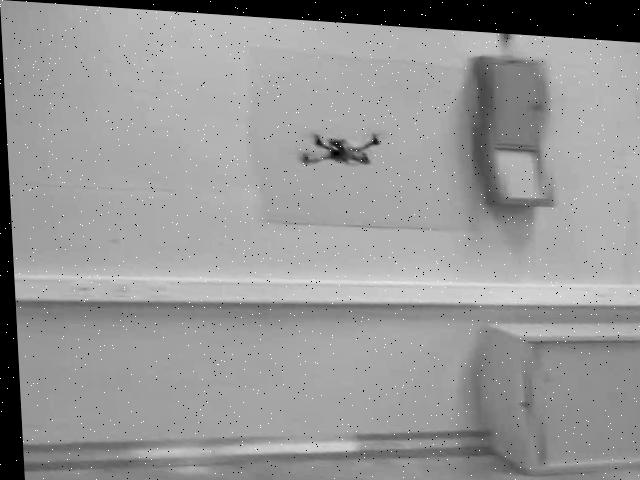drone: (295, 117, 387, 166)
